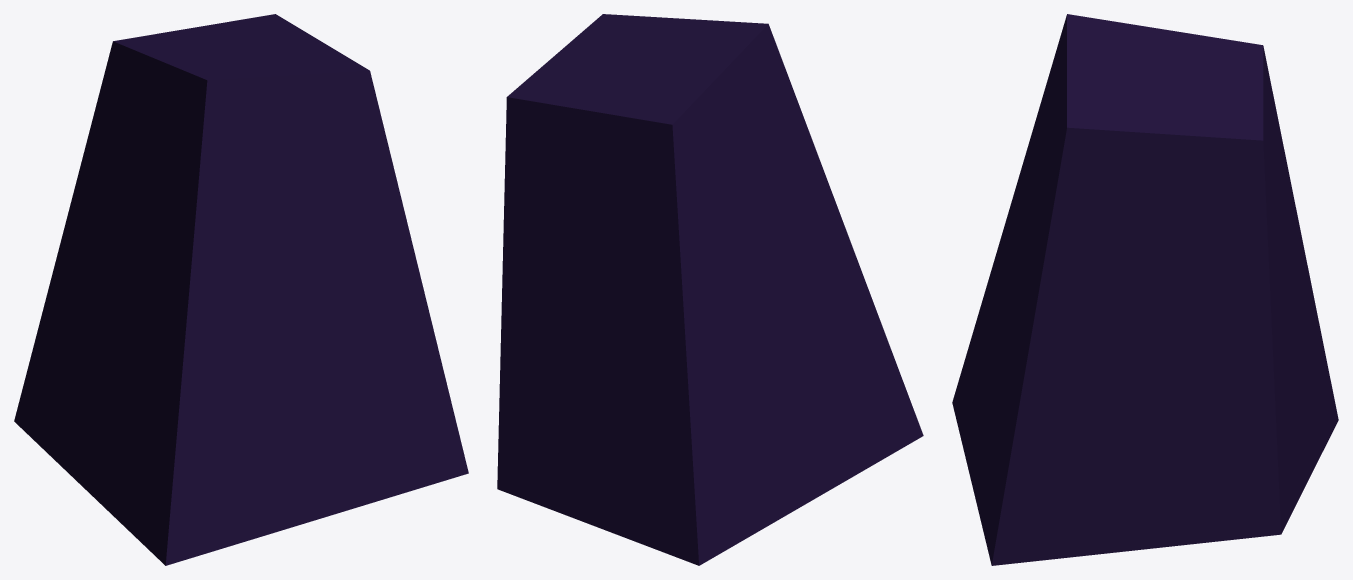
Rendered from stone_008_grp.fbx.
The picture shows the model from 3 angles, left to right: view 1: azimuth 30°, elevation 25°; view 2: azimuth 150°, elevation 25°; view 3: azimuth 270°, elevation 25°; orthographic projection. The views are drawn at different scales.
Parts seen in each view (by area): view 1: stone_008_grp; view 2: stone_008_grp; view 3: stone_008_grp.
Part boxes in pixels (box(x1,y1,x2,y2)): stone_008_grp: box(14, 14, 468, 565); stone_008_grp: box(497, 14, 923, 565); stone_008_grp: box(952, 14, 1338, 565).
Size of the model in its own units: 40 by 50 by 40.
